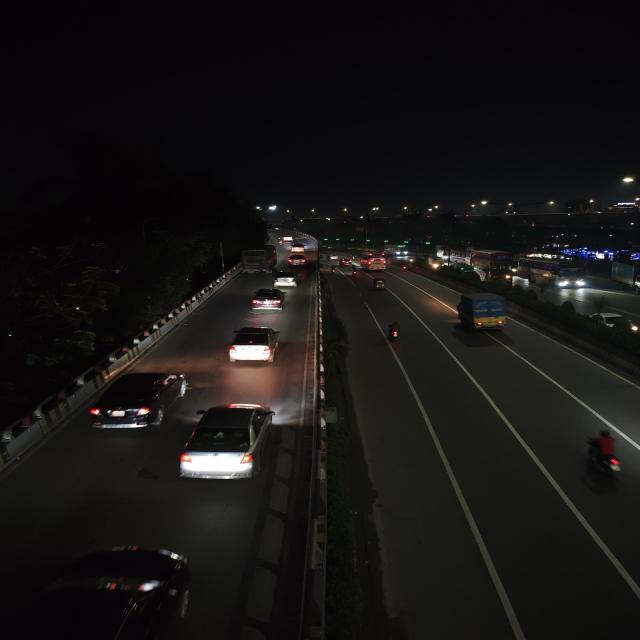bus: (519, 256, 586, 290), (470, 250, 514, 278), (239, 246, 277, 274), (365, 251, 388, 275), (442, 247, 469, 263), (387, 243, 411, 259)
car: (22, 540, 214, 640), (174, 401, 280, 487), (86, 369, 192, 435), (223, 324, 285, 368), (583, 309, 640, 339), (248, 287, 289, 313), (272, 270, 302, 288), (287, 254, 307, 268), (339, 258, 354, 266), (328, 254, 338, 263)
cng: (371, 277, 388, 291)
motorcycle: (574, 426, 628, 484), (384, 318, 405, 344), (348, 268, 358, 278), (329, 265, 338, 275)
truck: (456, 290, 510, 334), (610, 260, 640, 295)
